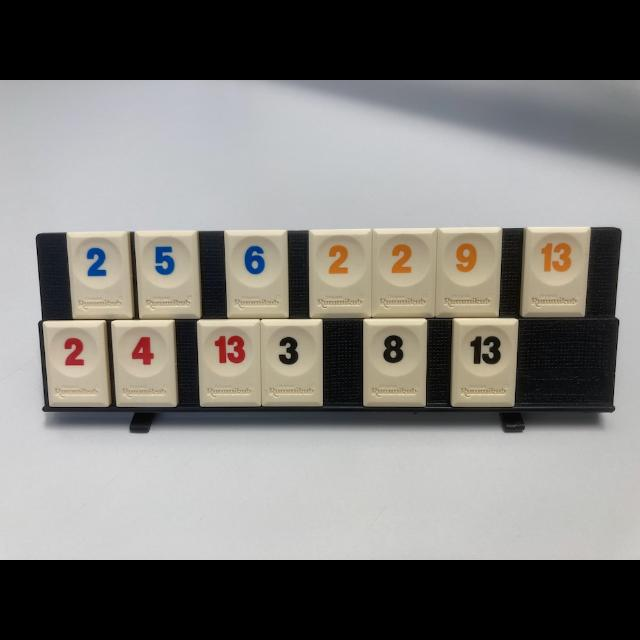black_13: (451, 318, 518, 406)
black_3: (260, 320, 322, 406)
black_8: (364, 319, 428, 406)
blue_2: (66, 232, 135, 319)
blue_5: (135, 231, 201, 319)
blue_6: (224, 231, 288, 318)
orange_13: (520, 228, 591, 318)
orange_2: (371, 229, 436, 316), (310, 229, 372, 318)
orange_9: (435, 228, 502, 318)
red_13: (198, 320, 260, 406)
red_2: (42, 321, 111, 408)
red_4: (111, 320, 178, 408)
